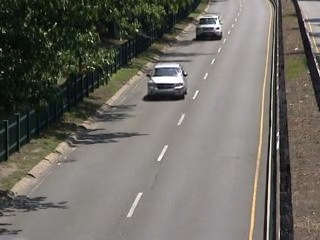car: (141, 62, 192, 104), (191, 13, 225, 40)
